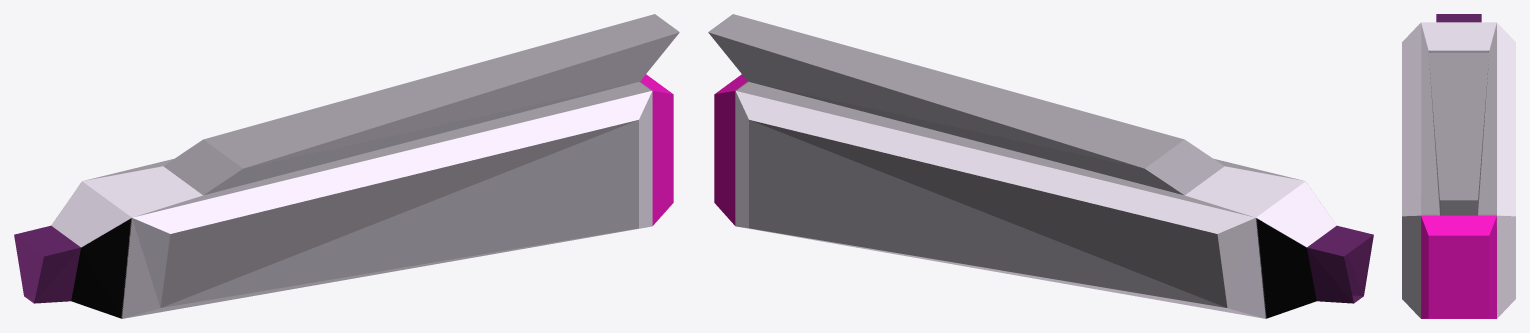
Rendered from LazerGun.dae.
The picture shows the model from 3 angles, left to right: view 1: azimuth 30°, elevation 25°; view 2: azimuth 150°, elevation 25°; view 3: azimuth 270°, elevation 25°; orthographic projection. The views are drawn at different scales.
Visible parts, largest first — view 1: Cube; view 2: Cube; view 3: Cube.
Part boxes in pixels (box(x1,y1,x2,y2)): Cube: box(14, 14, 679, 318); Cube: box(708, 14, 1373, 318); Cube: box(1402, 14, 1515, 318).
Size of the model in its own units: 7.38 by 1.5 by 1.94.
